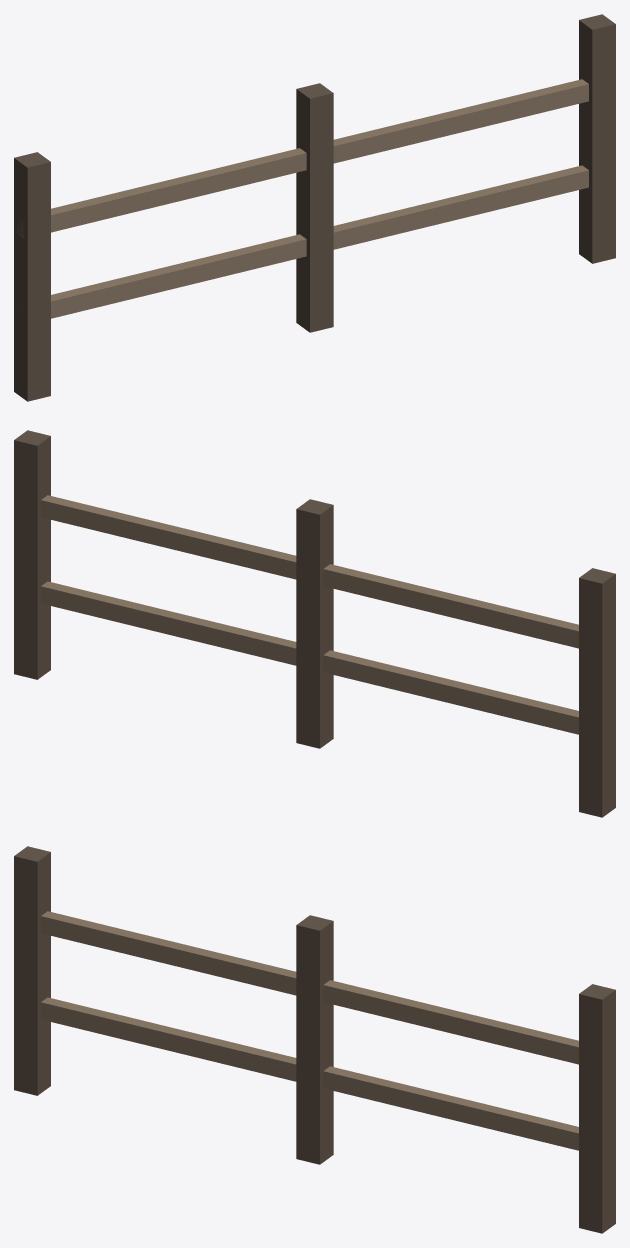
The model's file is hs_fence.glb.
3 views of the same model, one above another, from view 1: azimuth 30°, elevation 25°; view 2: azimuth 150°, elevation 25°; view 3: azimuth 330°, elevation 25° (orthographic).
Parts seen in each view (by area): view 1: hs_fence; view 2: hs_fence; view 3: hs_fence.
Part boxes in pixels (<box>): hs_fence: <box>14,14,615,401</box>; hs_fence: <box>14,430,615,817</box>; hs_fence: <box>14,846,615,1233</box>.
Size of the model in its own units: 2.5 by 0.95 by 0.1.
